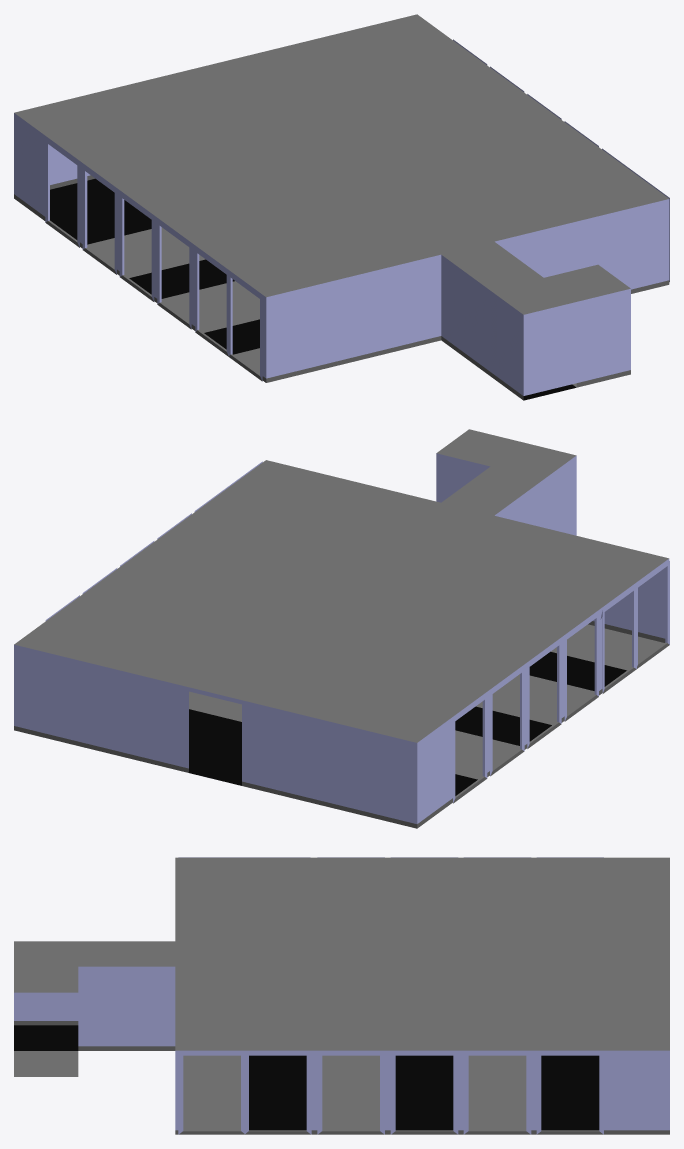
Rendered from lvl1.fbx.
The picture shows the model from 3 angles, top to bottom: view 1: azimuth 30°, elevation 25°; view 2: azimuth 150°, elevation 25°; view 3: azimuth 270°, elevation 25°; orthographic projection.
Visible parts, largest first — view 1: lvl1roof, lvl2.001; view 2: lvl1roof, lvl2.001; view 3: lvl1roof, lvl2.001.
Boxes of the visible parts, box(x1,y1,x2,y2) form: lvl1roof: box(14, 14, 668, 297); lvl2.001: box(14, 39, 669, 400); lvl1roof: box(14, 460, 668, 742); lvl2.001: box(14, 429, 669, 828); lvl1roof: box(175, 857, 669, 1050); lvl2.001: box(14, 857, 669, 1134).
Size of the model in its own units: 1960 by 394 by 2787.
